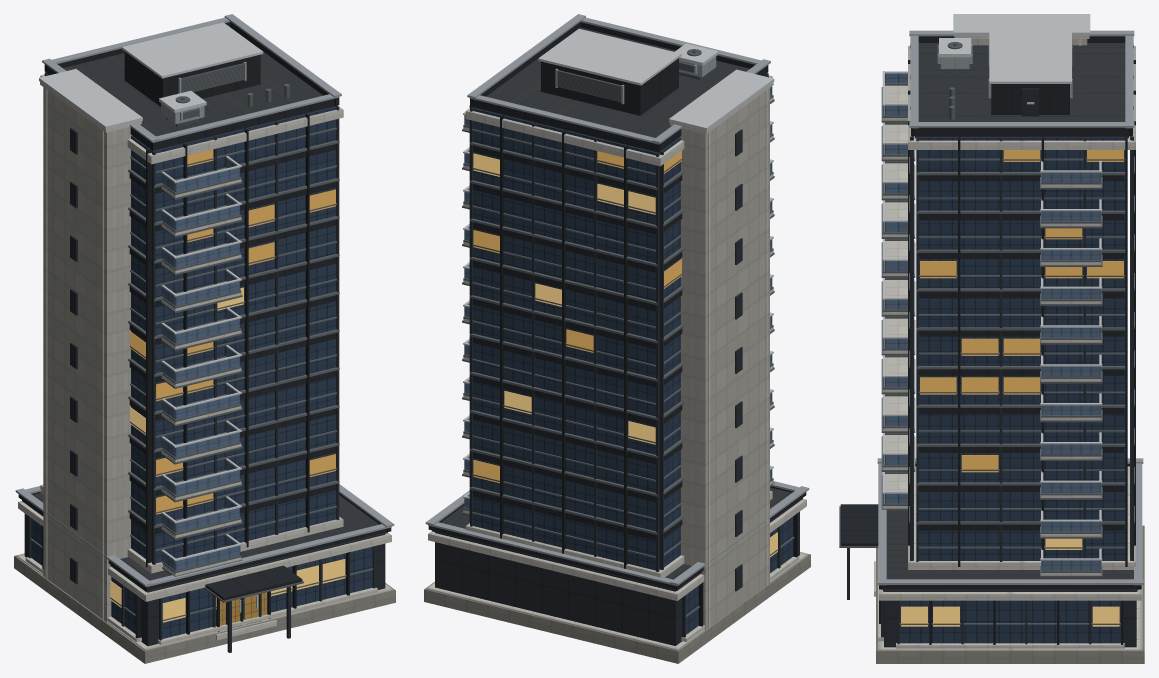
The model's file is civic-information-age-residential-tower-built.glb.
3 renders of one model, left to right at view 1: azimuth 30°, elevation 25°; view 2: azimuth 150°, elevation 25°; view 3: azimuth 270°, elevation 25°, orthographic. The views are drawn at different scales.
Size of the model in its own units: 20.62 by 41.31 by 21.03.
Materials: 39 (29 with a texture image).
